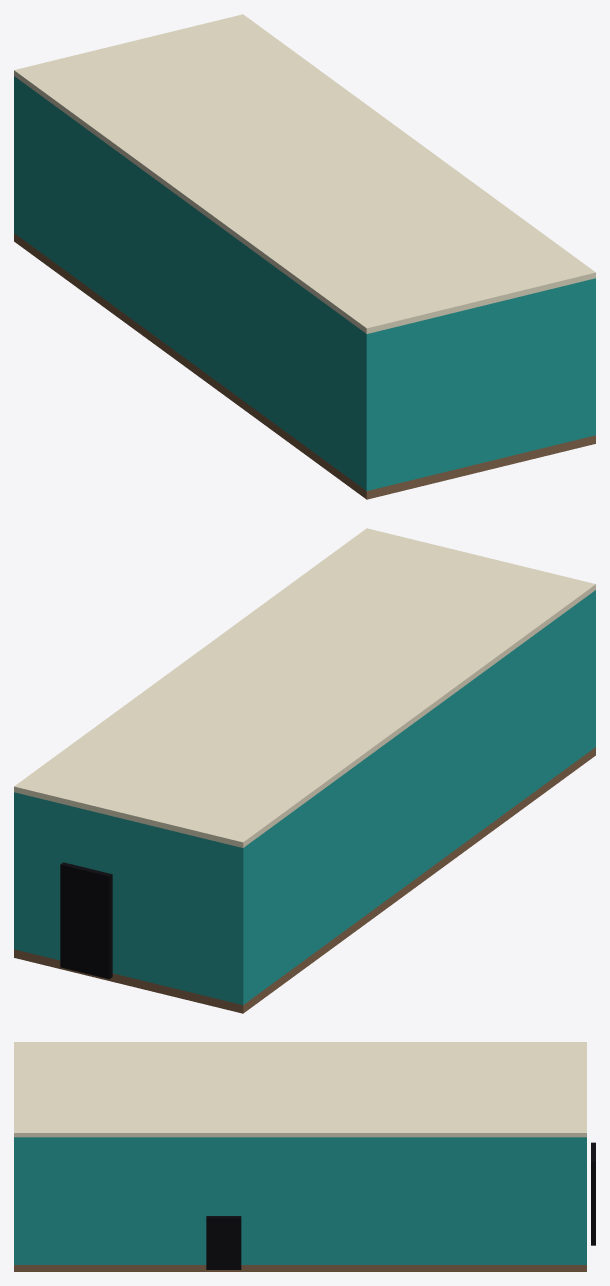
The model's file is rdwe_teal2.glb.
The picture shows the model from 3 angles, top to bottom: view 1: azimuth 30°, elevation 25°; view 2: azimuth 150°, elevation 25°; view 3: azimuth 270°, elevation 25°; orthographic projection. The views are drawn at different scales.
Parts seen in each view (by area): view 1: Teal2_Ceiling, Teal2_Wall_W_1, Teal2_Wall_S_1, Teal2_Floor; view 2: Teal2_Ceiling, Teal2_Wall_W_1, Teal2_Wall_N_1, Teal2_Wall_N_3, Beyond_arch, Teal2_Floor, Teal2_Wall_N_2; view 3: Teal2_Ceiling, Teal2_Wall_E_1, Teal2_Wall_E_3, Teal2_Floor, Beyond_grid, Teal2_Wall_E_2, Teal2_Wall_N_3, Teal2_Wall_S_1, Beyond_arch.
Boxes of the visible parts, <box> form: Teal2_Ceiling: <box>14,14,595,333</box>; Teal2_Wall_W_1: <box>17,78,363,488</box>; Teal2_Wall_S_1: <box>363,278,595,490</box>; Teal2_Floor: <box>14,233,595,499</box>; Teal2_Ceiling: <box>14,528,595,847</box>; Teal2_Wall_W_1: <box>246,592,592,1002</box>; Teal2_Wall_N_1: <box>108,815,246,1004</box>; Teal2_Wall_N_3: <box>14,792,71,960</box>; Beyond_arch: <box>60,862,112,979</box>; Teal2_Floor: <box>14,747,595,1013</box>; Teal2_Wall_N_2: <box>72,806,108,873</box>; Teal2_Ceiling: <box>14,1042,586,1137</box>; Teal2_Wall_E_1: <box>235,1137,581,1264</box>; Teal2_Wall_E_3: <box>19,1137,212,1264</box>; Teal2_Floor: <box>14,1265,586,1271</box>; Beyond_grid: <box>206,1216,241,1269</box>; Teal2_Wall_E_2: <box>212,1137,235,1215</box>; Teal2_Wall_N_3: <box>582,1137,586,1264</box>; Teal2_Wall_S_1: <box>14,1137,18,1264</box>; Beyond_arch: <box>591,1142,595,1245</box>.
Size of the model in its own units: 8.75 by 6 by 22.75.
